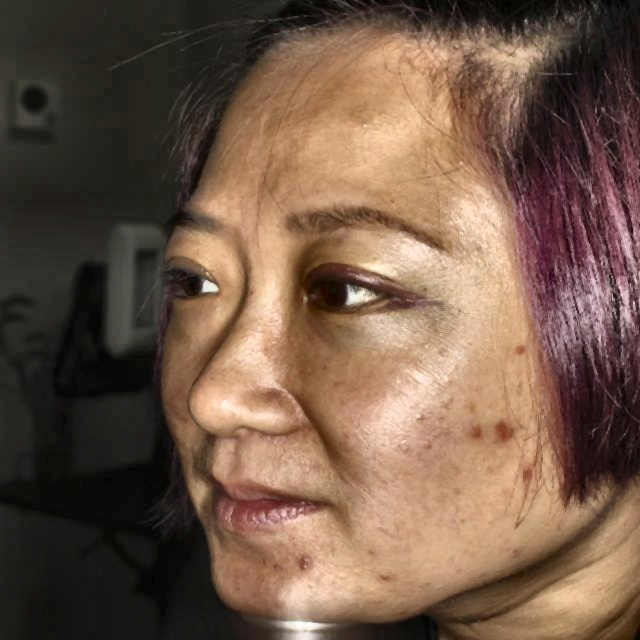comedone: (486, 414, 526, 448), (517, 455, 533, 484), (465, 420, 486, 442), (378, 563, 394, 587), (292, 553, 309, 570)
